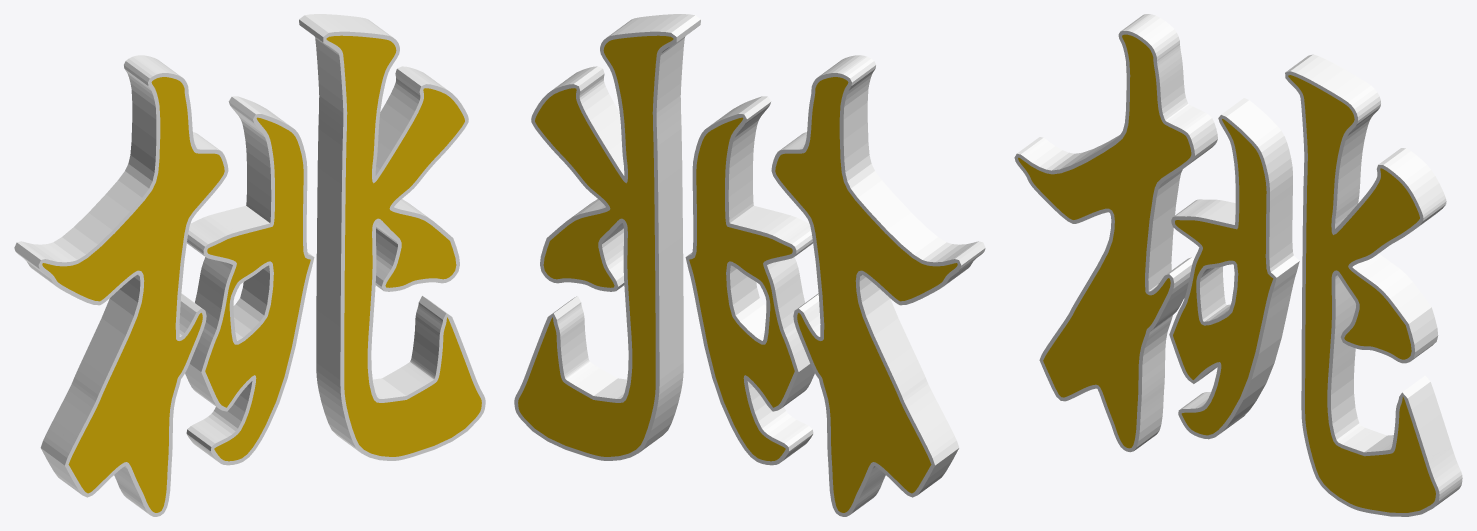
File: model_momo.glb
The picture shows the model from 3 angles, left to right: view 1: azimuth 30°, elevation 25°; view 2: azimuth 150°, elevation 25°; view 3: azimuth 330°, elevation 25°; orthographic projection. The views are drawn at different scales.
Parts seen in each view (by area): view 1: TraceGenius momo.001, TraceGenius momo.002; view 2: TraceGenius momo.001, TraceGenius momo.002; view 3: TraceGenius momo.001, TraceGenius momo.002.
Boxes of the visible parts, x1,y1,x2,y2 form: TraceGenius momo.001: (42,35,481,512); TraceGenius momo.002: (14,14,485,516); TraceGenius momo.001: (518,35,957,512); TraceGenius momo.002: (514,14,985,516); TraceGenius momo.001: (1018,34,1435,512); TraceGenius momo.002: (1014,14,1462,516).
Size of the model in its own units: 3.52 by 3.35 by 0.33.
